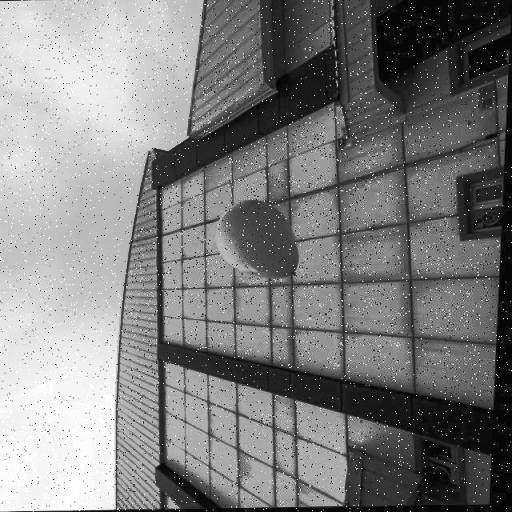balloon: (218, 200, 301, 280)
